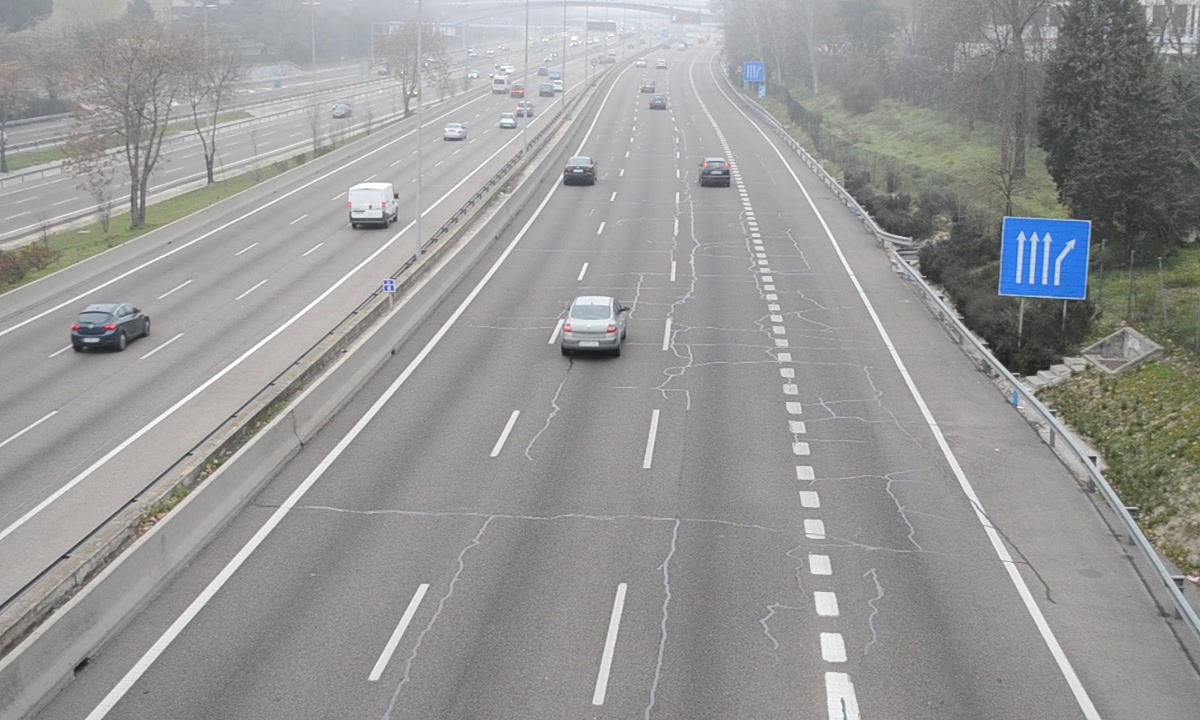car: (563, 298, 625, 355), (699, 158, 732, 188), (563, 156, 596, 186)
